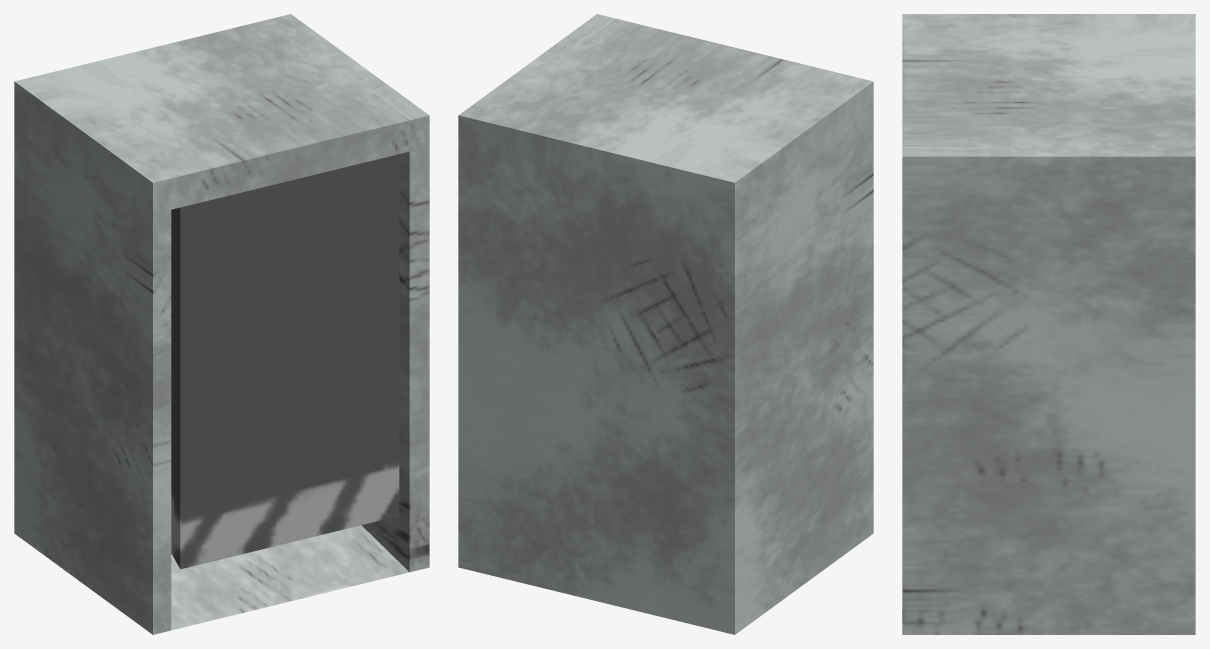
Rendered from GON-door-idleCLOSE.fbx.
3 renders of one model, left to right at view 1: azimuth 30°, elevation 25°; view 2: azimuth 150°, elevation 25°; view 3: azimuth 270°, elevation 25°, orthographic. The views are drawn at different scales.
Visible parts, largest first — view 1: pasted__pasted__door_frame, door; view 2: pasted__pasted__door_frame; view 3: pasted__pasted__door_frame.
Boxes of the visible parts, bbox=[...] form: pasted__pasted__door_frame: bbox=[14, 14, 429, 634]; door: bbox=[171, 154, 399, 569]; pasted__pasted__door_frame: bbox=[458, 14, 873, 634]; pasted__pasted__door_frame: bbox=[902, 14, 1195, 634].
Size of the model in its own units: 1.87 by 2.92 by 1.62.
2 materials, 2 textured.
